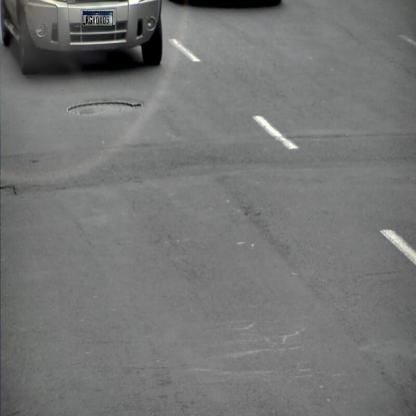PlacaM: (83, 11, 113, 26)
